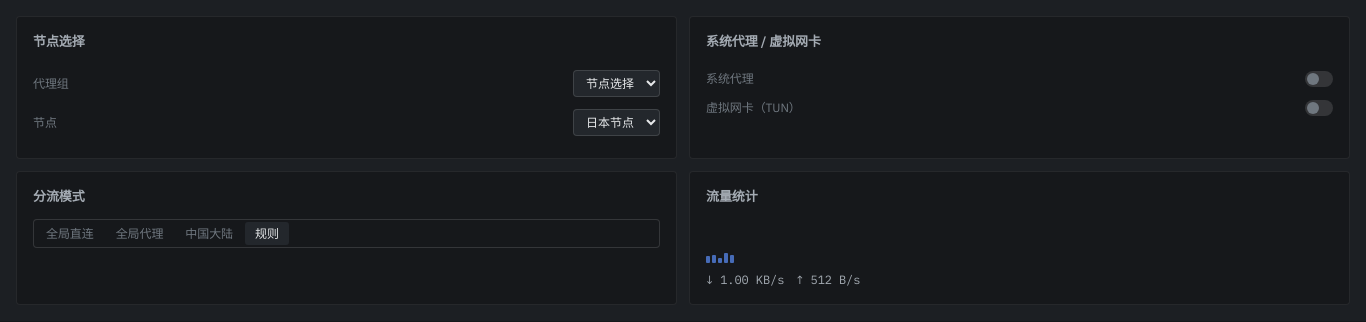
it: 首页 —— 节点选择卡片 › 多个 select 组时先选组、再选成员
Select "备用组" in the dropdown labelled "代理组" at {"x": 616, "y": 83}, box [573, 70, 660, 97]
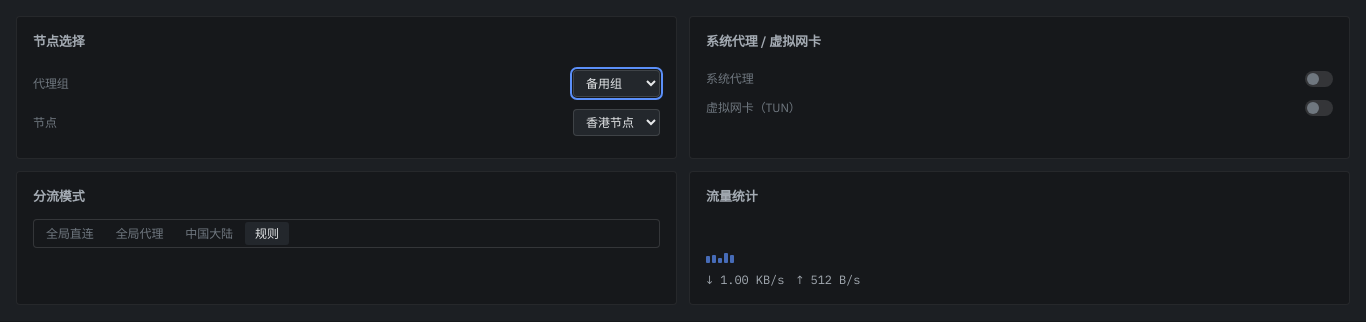
Expected: the dropdown labelled "节点" shows "香港节点", [573, 109, 660, 136]
